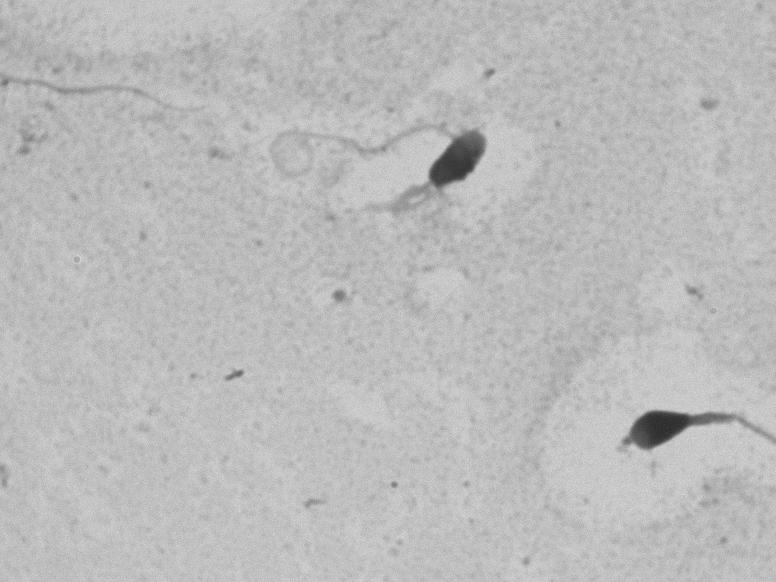Abnormal: (310, 73, 536, 257), (611, 374, 756, 486)
